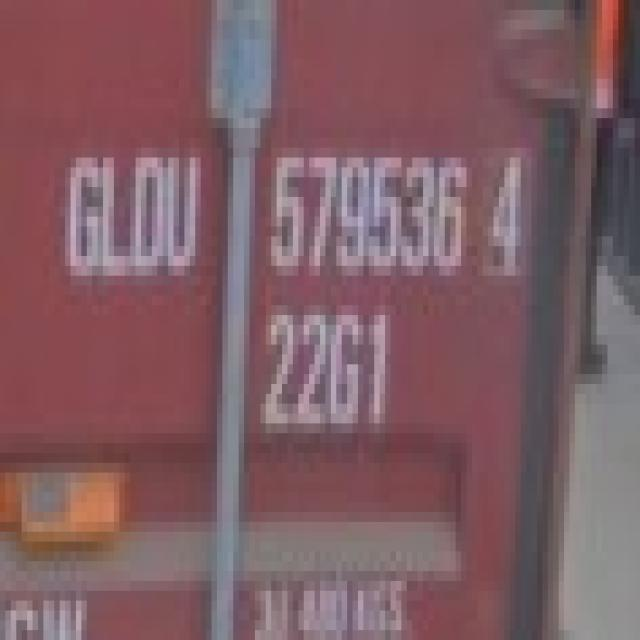dv: (478, 145, 529, 273)
owner: (56, 138, 204, 288)
serial: (263, 138, 468, 280)
size: (256, 293, 402, 446)
